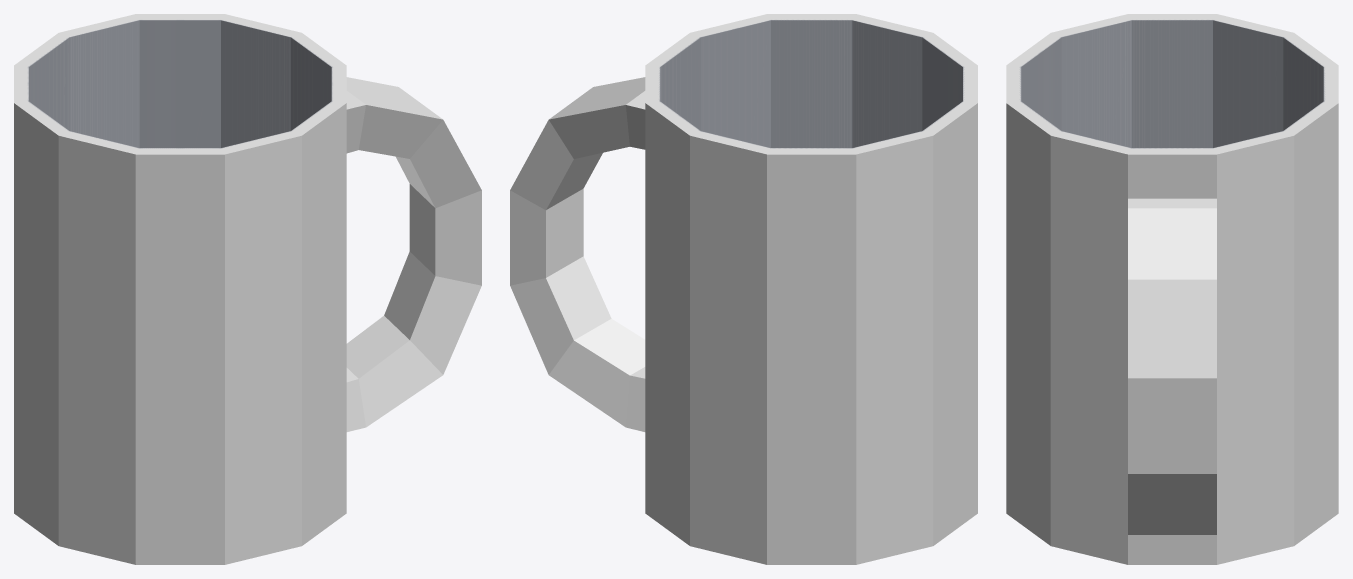
The model's file is Mug_White.fbx.
3 renders of one model, left to right at view 1: azimuth 30°, elevation 25°; view 2: azimuth 150°, elevation 25°; view 3: azimuth 270°, elevation 25°, orthographic.
Parts seen in each view (by area): view 1: Mug; view 2: Mug; view 3: Mug.
Boxes of the visible parts, <box> form: Mug: <box>14,14,481,564</box>; Mug: <box>510,14,977,564</box>; Mug: <box>1006,14,1338,564</box>.
Size of the model in its own units: 10.79 by 10 by 7.34.
